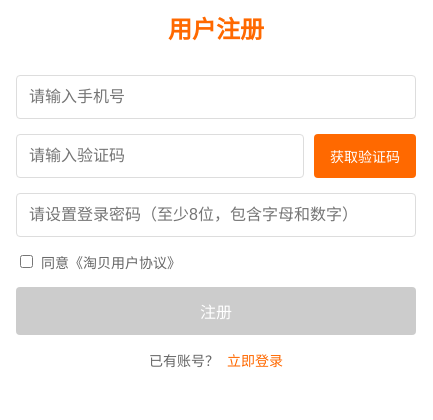
RegisterForm › 应该验证手机号格式
Type "123" into the field with placeholder "请输入手机号" at point(216, 97), box 16,75 -> 416,119
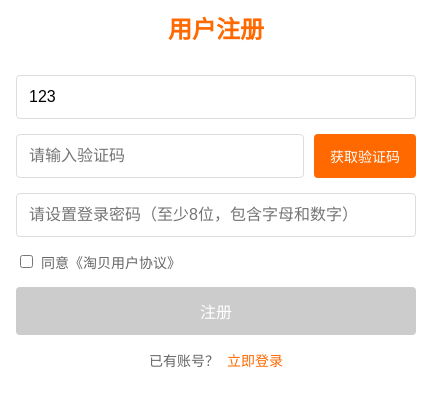
Click the button "获取验证码" at point(365, 156), box 314,134 -> 416,178
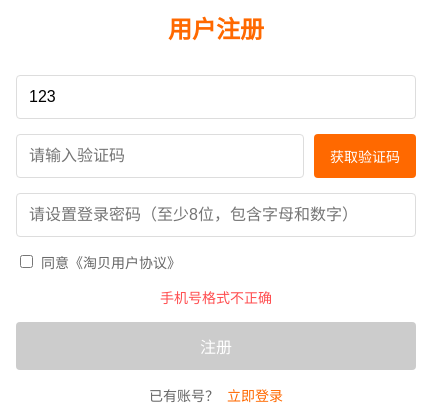
Expected: the text "手机号格式不正确" is shown, 160,290 -> 272,306
